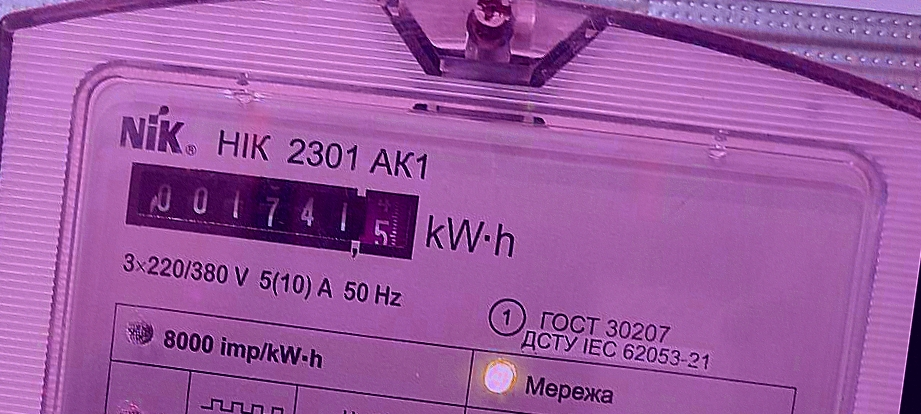0: (188, 181, 212, 218), (152, 179, 176, 215)
1: (224, 184, 246, 222), (333, 198, 353, 235)
4: (296, 192, 320, 230), (374, 195, 393, 215)
5: (369, 214, 392, 248)
7: (259, 192, 281, 229)
screen: (117, 149, 428, 271)
